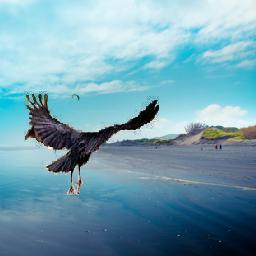Crow: (25, 91, 160, 195)
